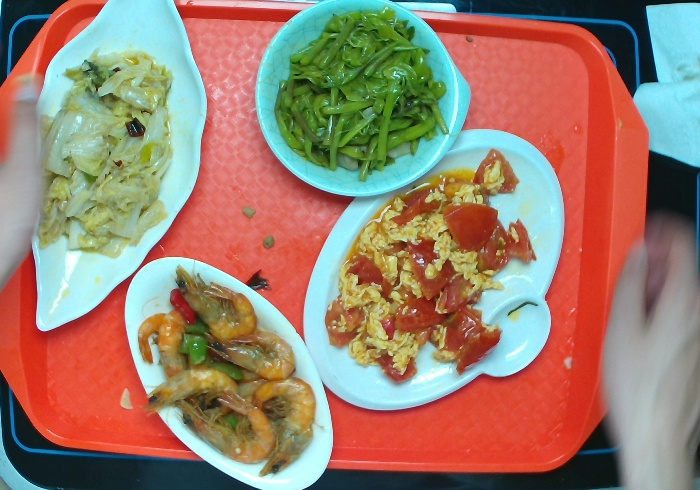RJxy-Bai_Se_Tuo_Yuan: (121, 249, 337, 487)
RJxy-Shu_Ye_Pan: (19, 1, 213, 334)
RJxy-Xiao_Jiao_Yuan_Wan: (253, 1, 474, 202)
RJxy-Zhan_Liao_Pan: (293, 119, 571, 417)
